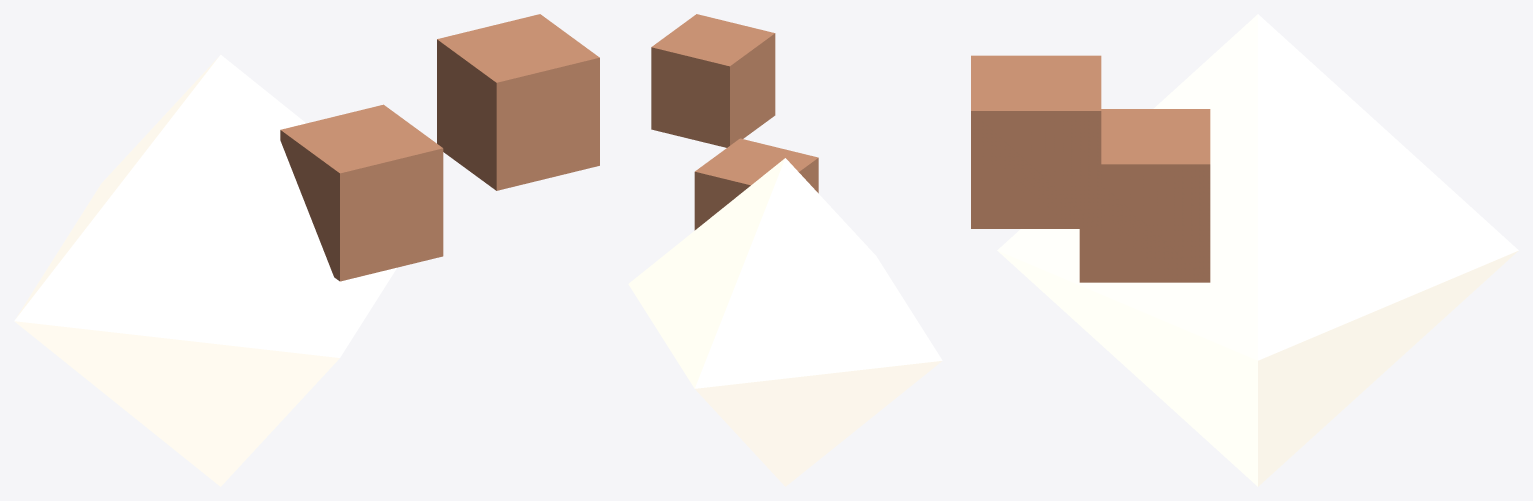
The model's file is emitter-sphere.gltf.
3 views of the same model, side by side, from view 1: azimuth 30°, elevation 25°; view 2: azimuth 150°, elevation 25°; view 3: azimuth 270°, elevation 25° (orthographic). The views are drawn at different scales.
Visible parts, largest first — view 1: enveloppe-lampe, occultant-diagonale, occultant-proche; view 2: enveloppe-lampe, occultant-diagonale, occultant-proche; view 3: enveloppe-lampe, occultant-diagonale, occultant-proche.
Boxes of the visible parts, x1=… form: enveloppe-lampe: x1=14, y1=54, x2=396, y2=486; occultant-diagonale: x1=437, y1=14, x2=599, y2=190; occultant-proche: x1=280, y1=104, x2=443, y2=281; enveloppe-lampe: x1=628, y1=158, x2=942, y2=486; occultant-diagonale: x1=651, y1=14, x2=775, y2=147; occultant-proche: x1=694, y1=138, x2=818, y2=230; enveloppe-lampe: x1=997, y1=14, x2=1518, y2=486; occultant-diagonale: x1=971, y1=55, x2=1101, y2=228; occultant-proche: x1=1079, y1=109, x2=1210, y2=282.
Size of what is drawn, in the model's own units: 0.44 by 0.43 by 0.42.
